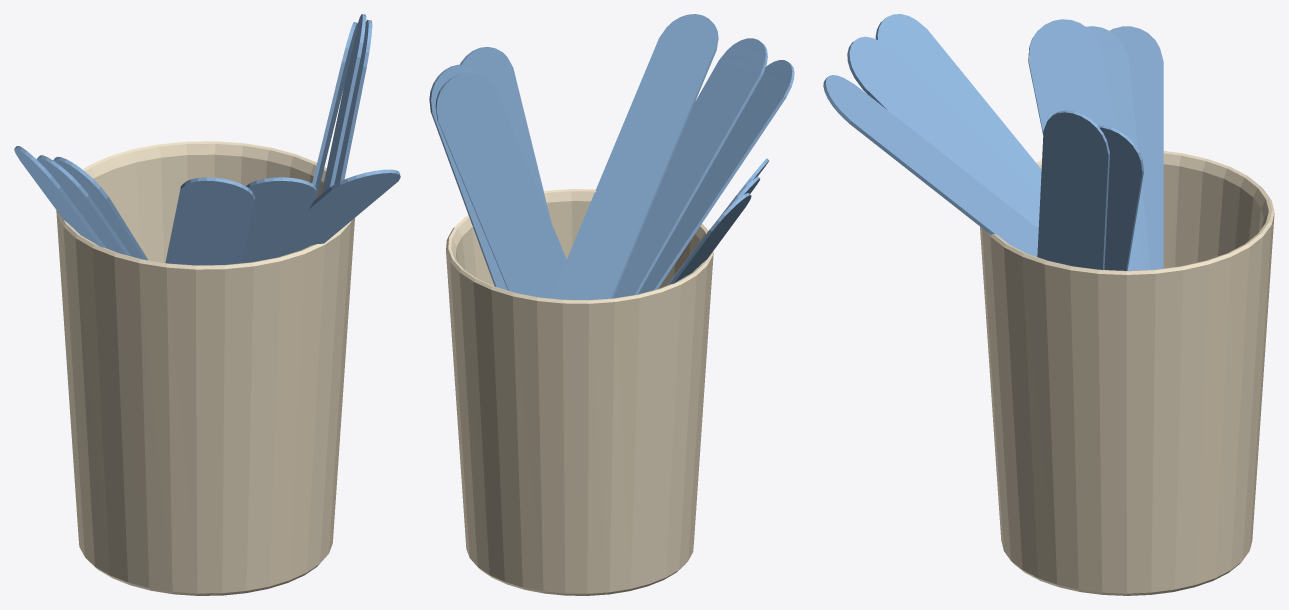
Rendered from abaisse_langue.glb.
3 renders of one model, left to right at view 1: azimuth 30°, elevation 25°; view 2: azimuth 150°, elevation 25°; view 3: azimuth 270°, elevation 25°, orthographic. The views are drawn at different scales.
Visible parts, largest first — view 1: batonnets, pot; view 2: batonnets, pot; view 3: batonnets, pot.
Part boxes in pixels (box(x1,y1,x2,y2)): batonnets: box(56, 141, 354, 595); pot: box(14, 14, 400, 265); batonnets: box(446, 189, 713, 595); pot: box(429, 14, 794, 299); batonnets: box(980, 151, 1274, 595); pot: box(823, 14, 1163, 270).
Size of the model in its own units: 0.1068 by 0.15 by 0.1229.
